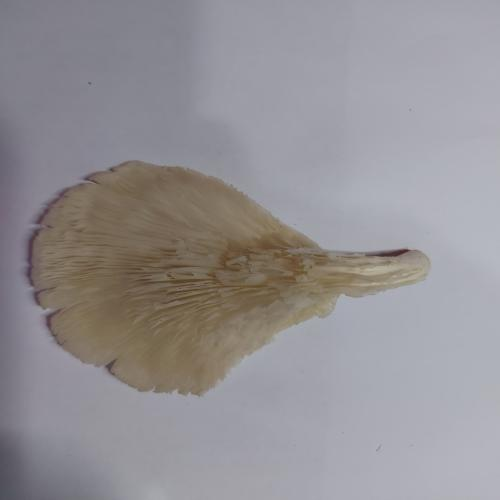Oyster Mushroom: (25, 159, 431, 397)
